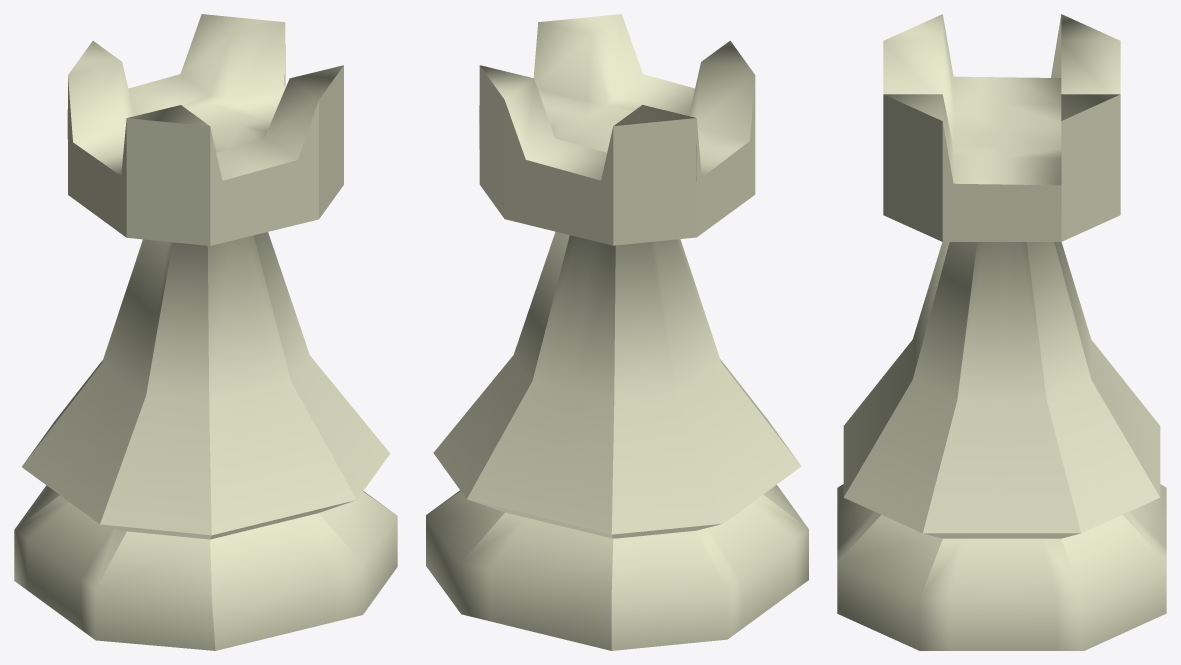
The model's file is Rook.fbx.
3 views of the same model, side by side, from view 1: azimuth 30°, elevation 25°; view 2: azimuth 150°, elevation 25°; view 3: azimuth 270°, elevation 25° (orthographic).
Visible parts, largest first — view 1: Rook1; view 2: Rook1; view 3: Rook1.
Part boxes in pixels (<box>): Rook1: <box>14,14,397,650</box>; Rook1: <box>426,14,808,650</box>; Rook1: <box>837,14,1166,650</box>.
Bounding box in the file's own units: 1 × 1.59 × 0.9344.
